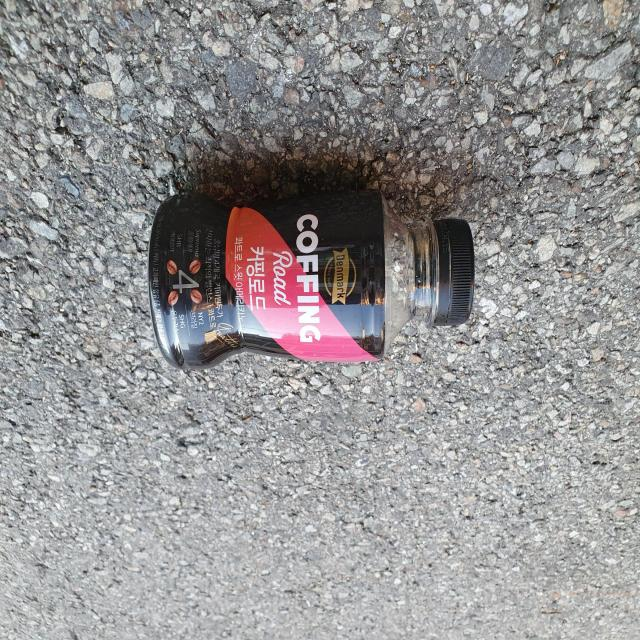plastic: (148, 191, 475, 369)
